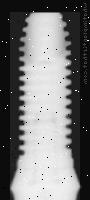BioHorizons: (10, 12, 80, 200)
